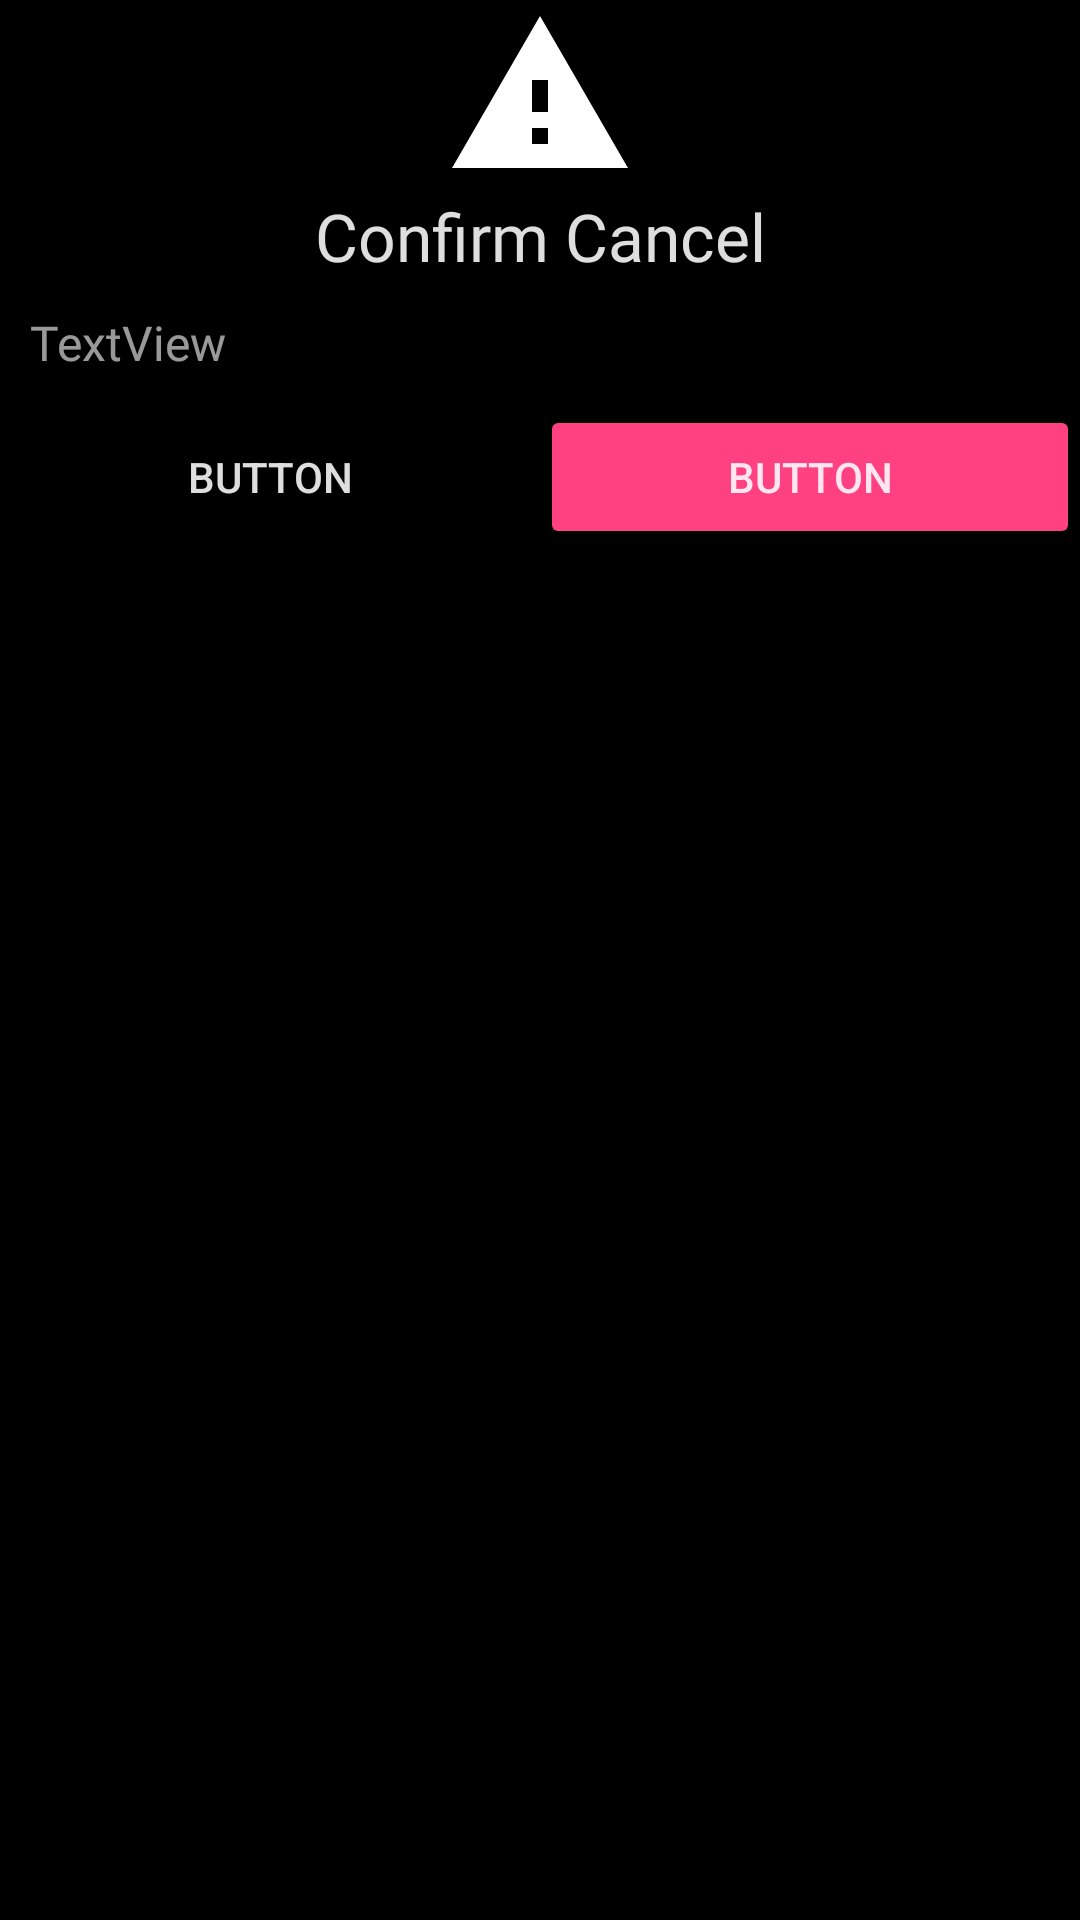

Screen size 1080x1920. Icon name, then its center in pixels as point (x, y):
alert: point (540, 92)
